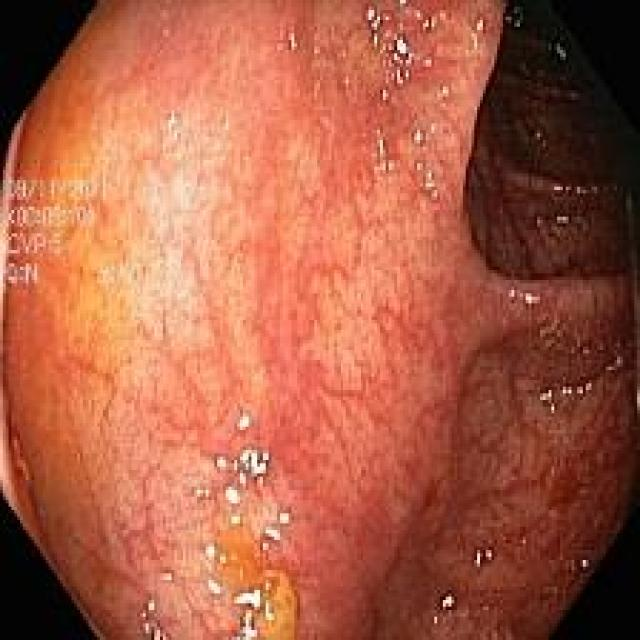ulcerative-colitis-grade-0-1: (209, 87, 428, 637), (407, 324, 635, 640)
